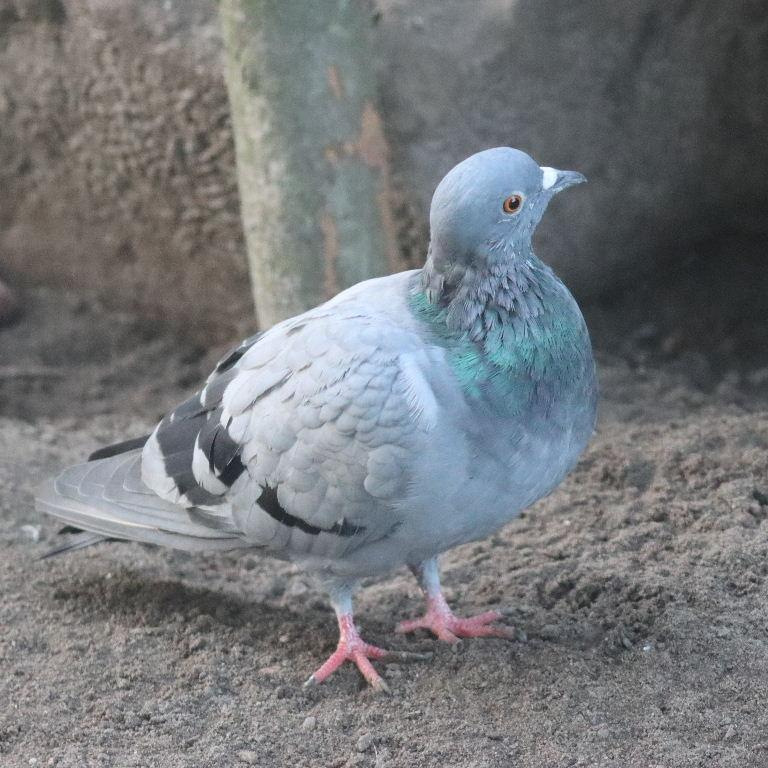Flying Rat: (76, 137, 596, 694)
